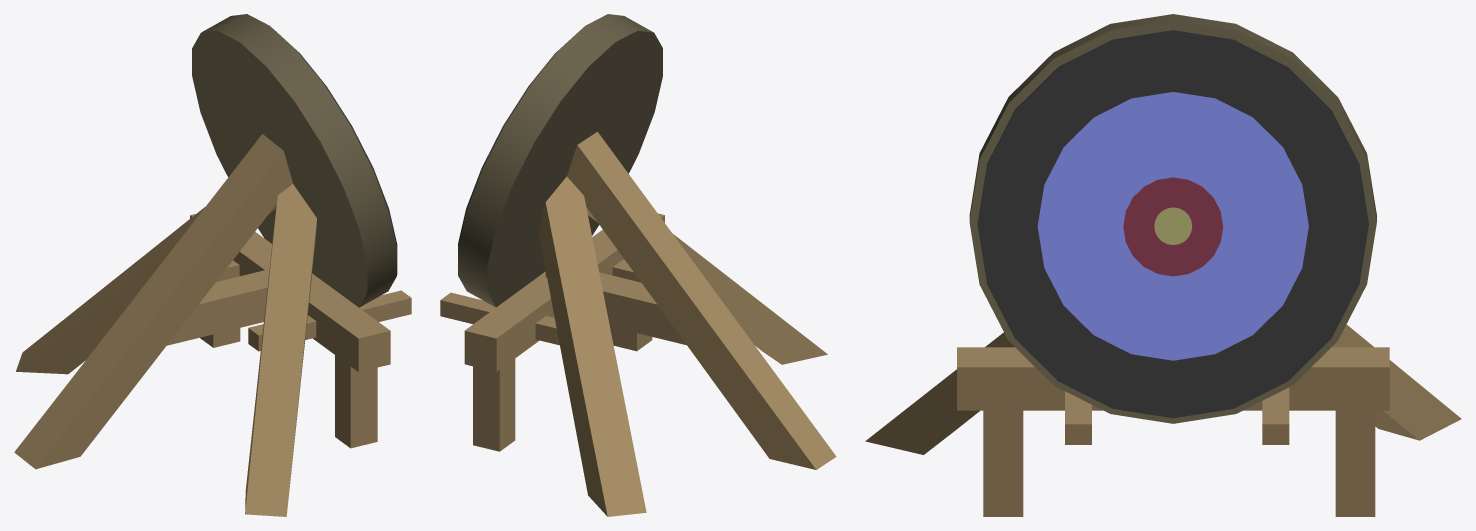
File: archery.fbx
3 renders of one model, left to right at view 1: azimuth 30°, elevation 25°; view 2: azimuth 150°, elevation 25°; view 3: azimuth 270°, elevation 25°, orthographic. The views are drawn at different scales.
Parts seen in each view (by area): view 1: pCube11; view 2: pCube11; view 3: pCube11.
Boxes of the visible parts, x1=… form: pCube11: x1=14, y1=14, x2=411, y2=516; pCube11: x1=440, y1=14, x2=836, y2=516; pCube11: x1=865, y1=14, x2=1461, y2=516.
Bounding box in the file's own units: 121 × 128 × 143.
